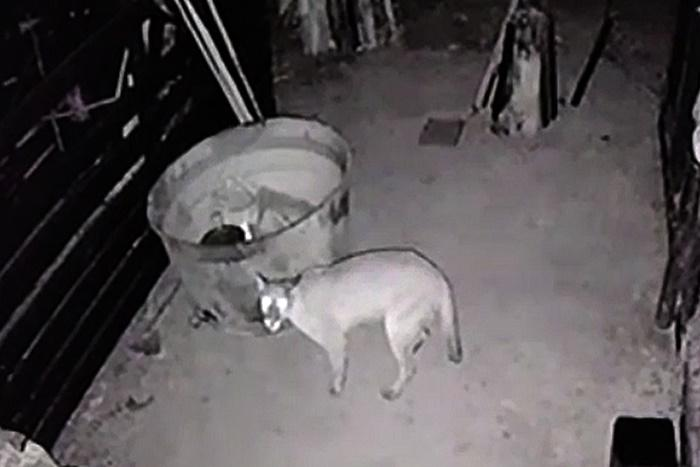OncaParda: (247, 244, 471, 408)
